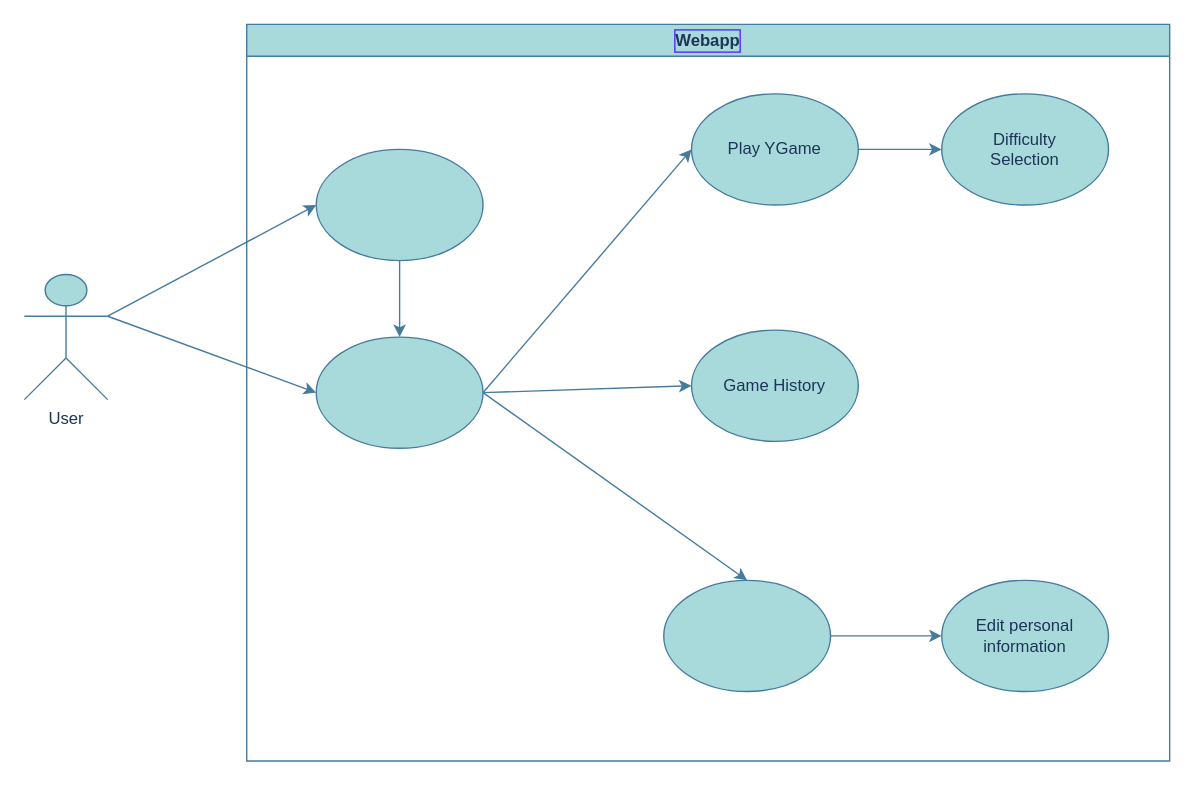
Some shapes in this 1194 by 785 pixel diagram are drawn without their labels. Here are the shapes that lost their labels. From the top down, the box of each, then its label:
(315, 148, 483, 261): Account Creation
(315, 336, 483, 448): Log In
(662, 579, 831, 692): View profile
